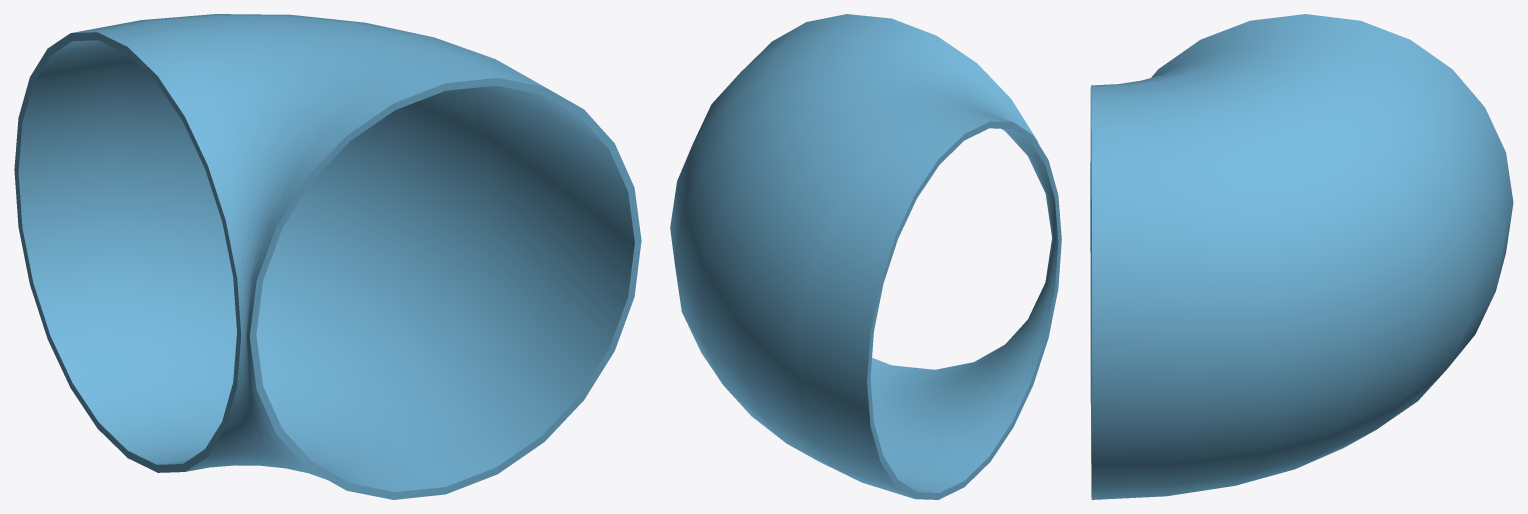
The model's file is tubo_L.fbx.
3 renders of one model, left to right at view 1: azimuth 30°, elevation 25°; view 2: azimuth 150°, elevation 25°; view 3: azimuth 270°, elevation 25°, orthographic. The views are drawn at different scales.
Parts seen in each view (by area): view 1: BezierCurve; view 2: BezierCurve; view 3: BezierCurve.
Boxes of the visible parts, <box> form: BezierCurve: <box>14,14,641,499</box>; BezierCurve: <box>670,14,1061,499</box>; BezierCurve: <box>1090,14,1513,499</box>.
Size of the model in its own units: 1947 by 1924 by 1955.
Materials: 1 (1 with a texture image).
